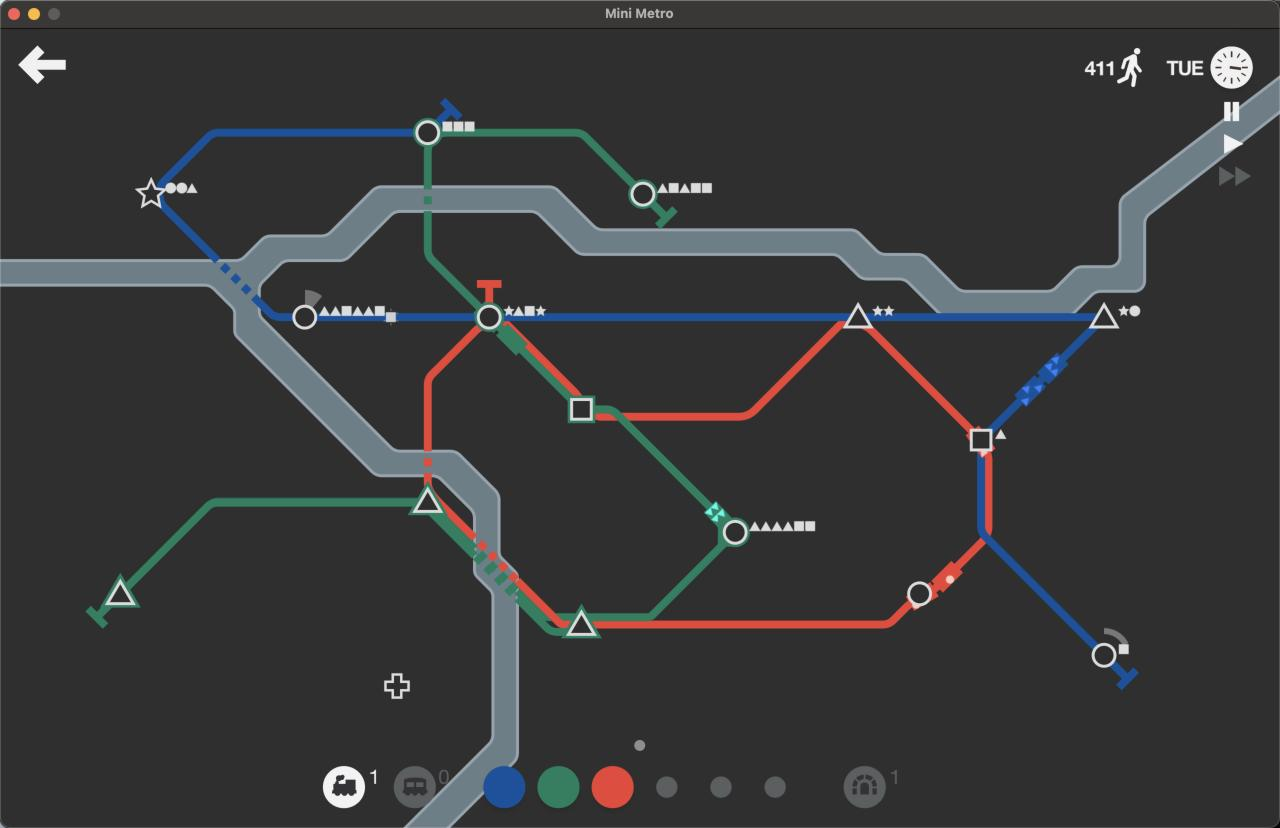CIRCLE: (906, 579, 934, 611), (474, 303, 504, 332), (413, 118, 442, 147), (721, 518, 749, 547), (629, 179, 656, 208), (291, 303, 318, 330), (1091, 642, 1118, 668)
CROSS: (383, 672, 411, 699)
SQUARE: (568, 396, 596, 424), (968, 428, 993, 453)
STAR: (134, 177, 165, 208)
TRIANGLE: (103, 575, 140, 609), (564, 605, 601, 639), (410, 485, 444, 515), (1090, 301, 1119, 329), (844, 301, 872, 329)
